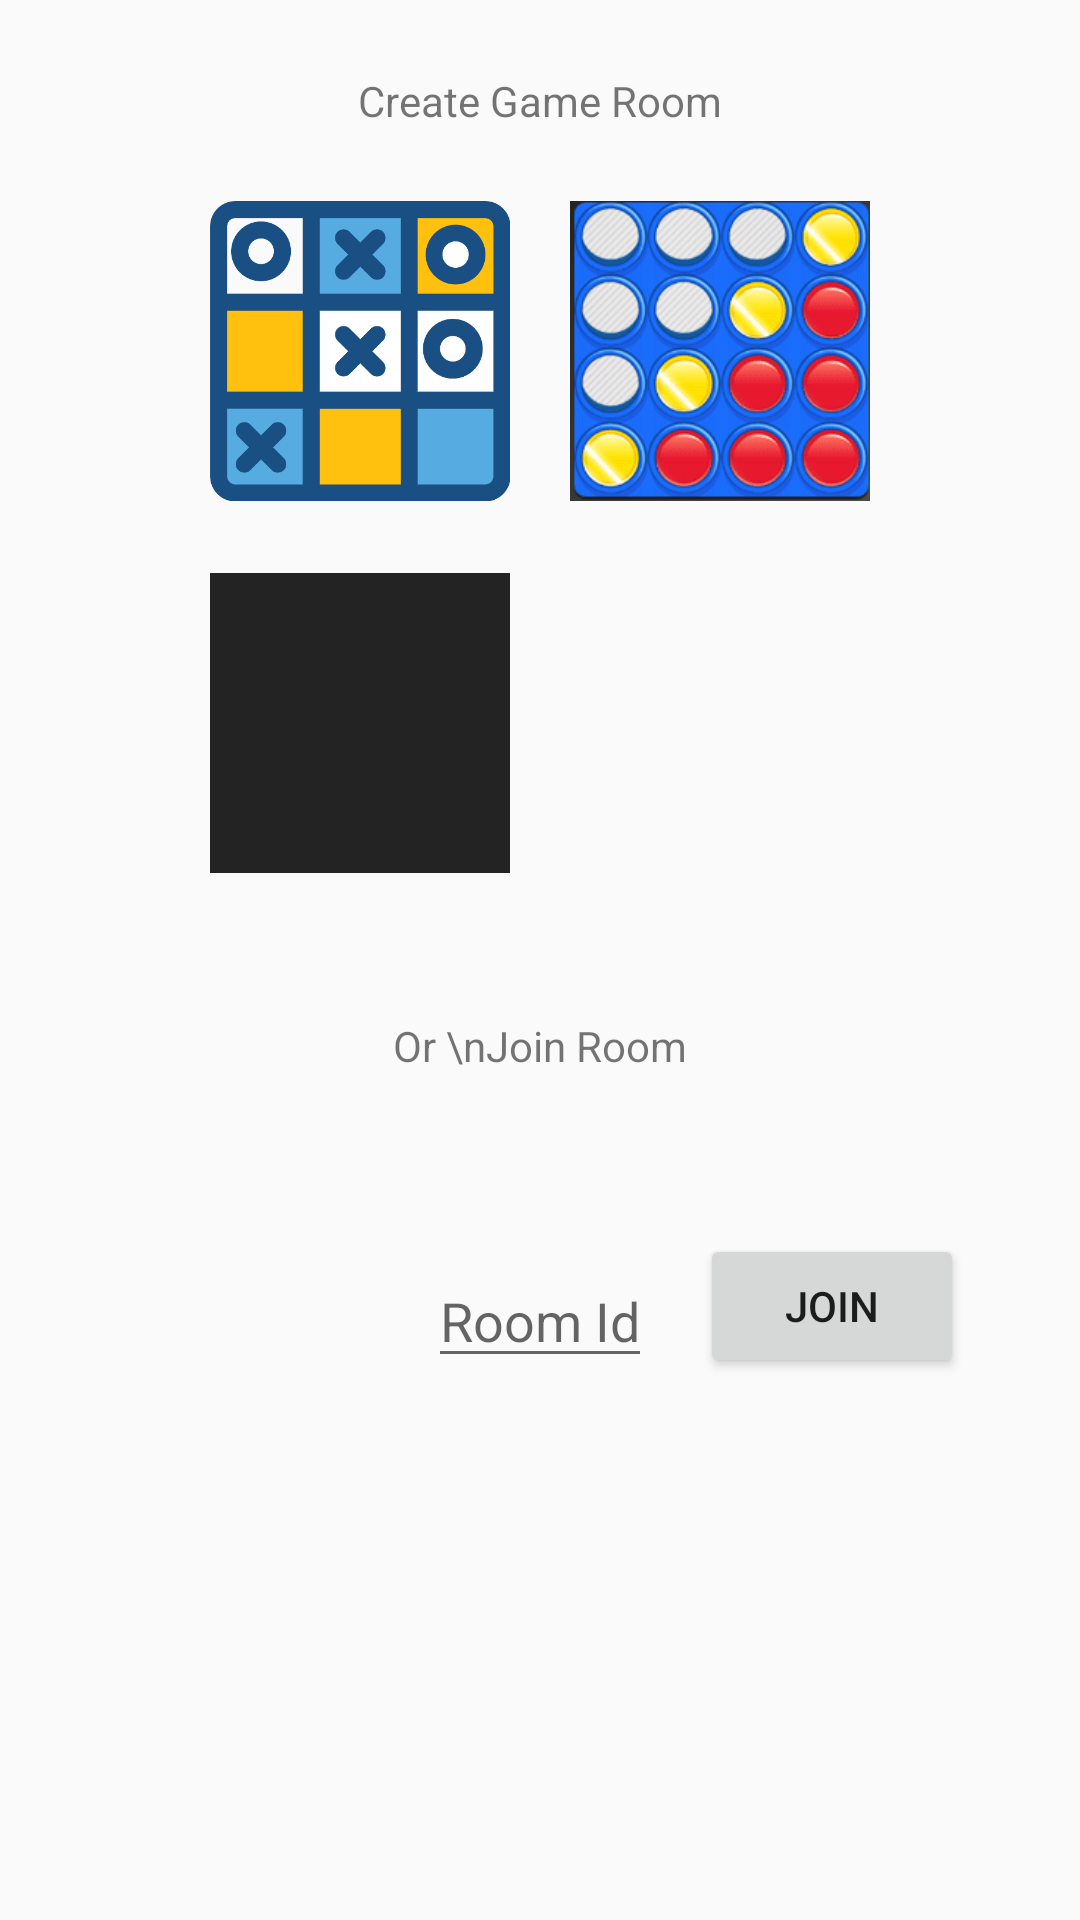

Icon bounding boxes for this 1080w x 1920h phone screenshot, format (x1, y1, x2, y2):
connect: (570, 201, 870, 501)
tic tac toe: (210, 201, 510, 501)
